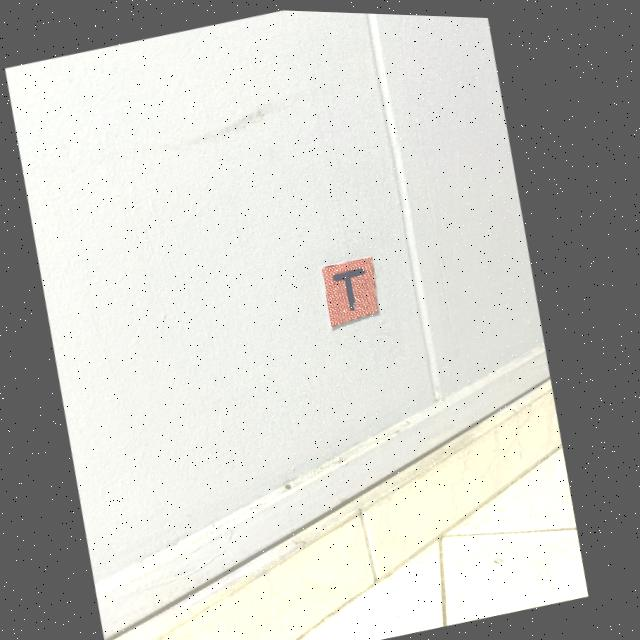T: (337, 266, 368, 306)
